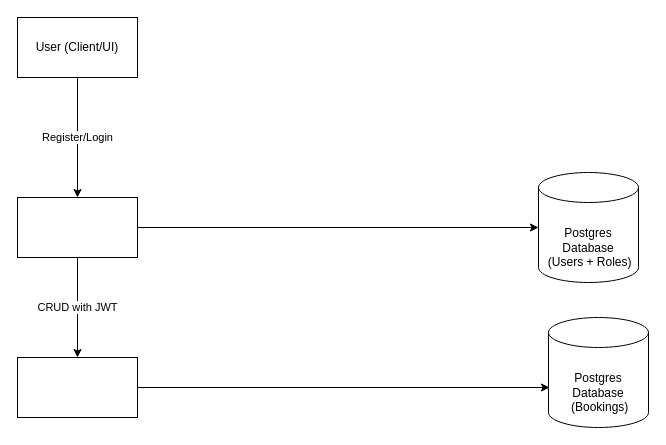
This 666x445 diagram has some shape labels left out. The box of each missing label's shape, as (x1, y1, x2, y2) in pixels:
Auth Service (Get JWT): (16, 196, 138, 258)
Booking Service: (16, 356, 138, 418)
